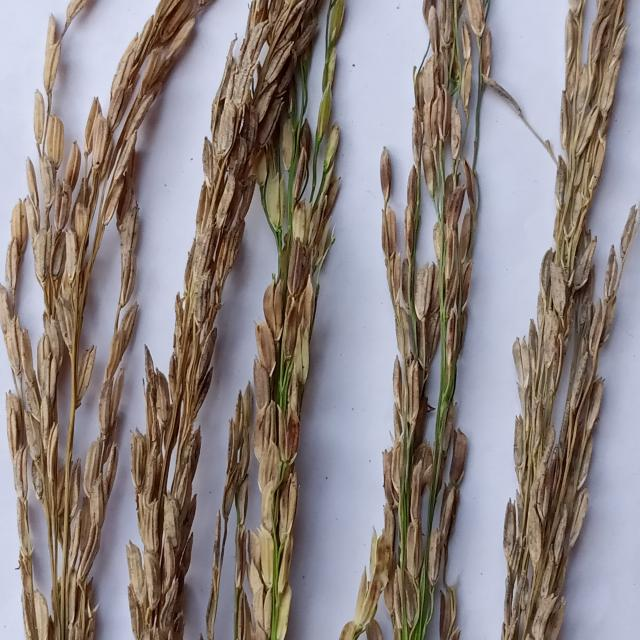Neck_Blast: (1, 0, 246, 640), (121, 5, 324, 640), (495, 0, 640, 640), (346, 6, 488, 640), (221, 21, 346, 639)
